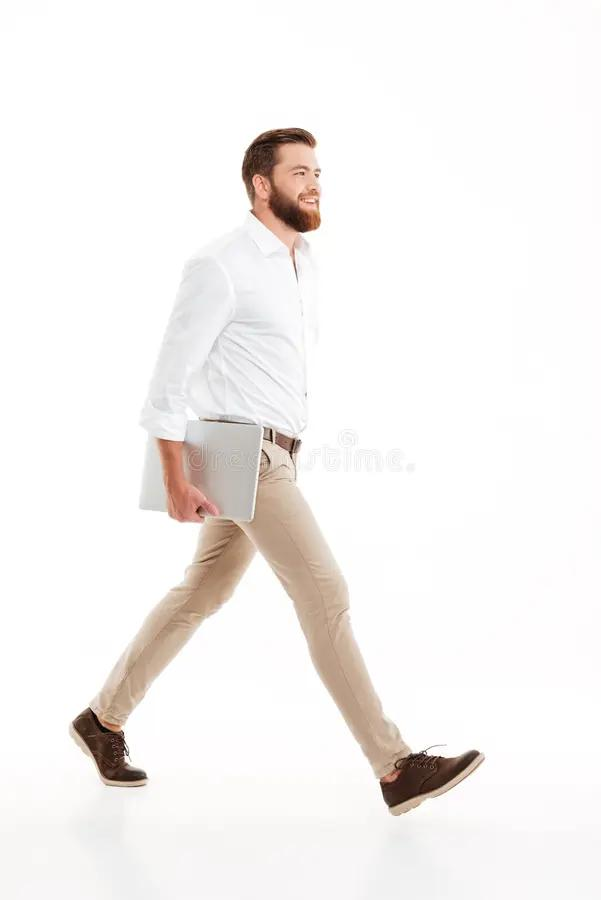long sleeve shirt: (135, 210, 321, 450)
trousers: (90, 427, 412, 779)
